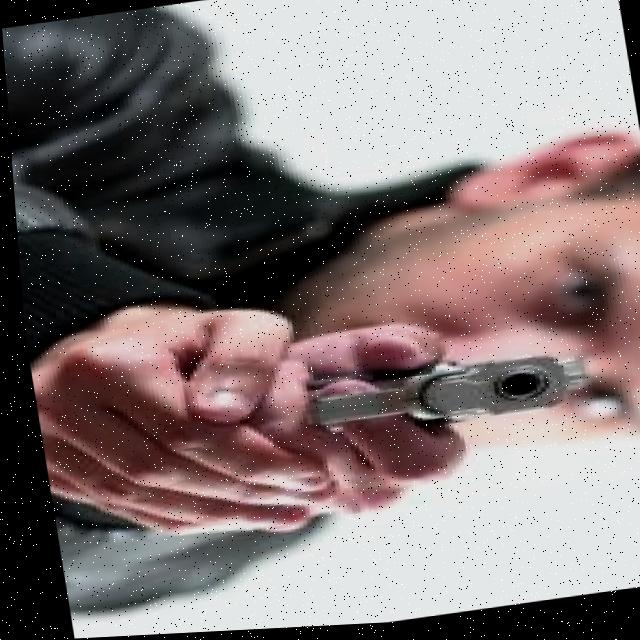pistol: (298, 352, 588, 441)
